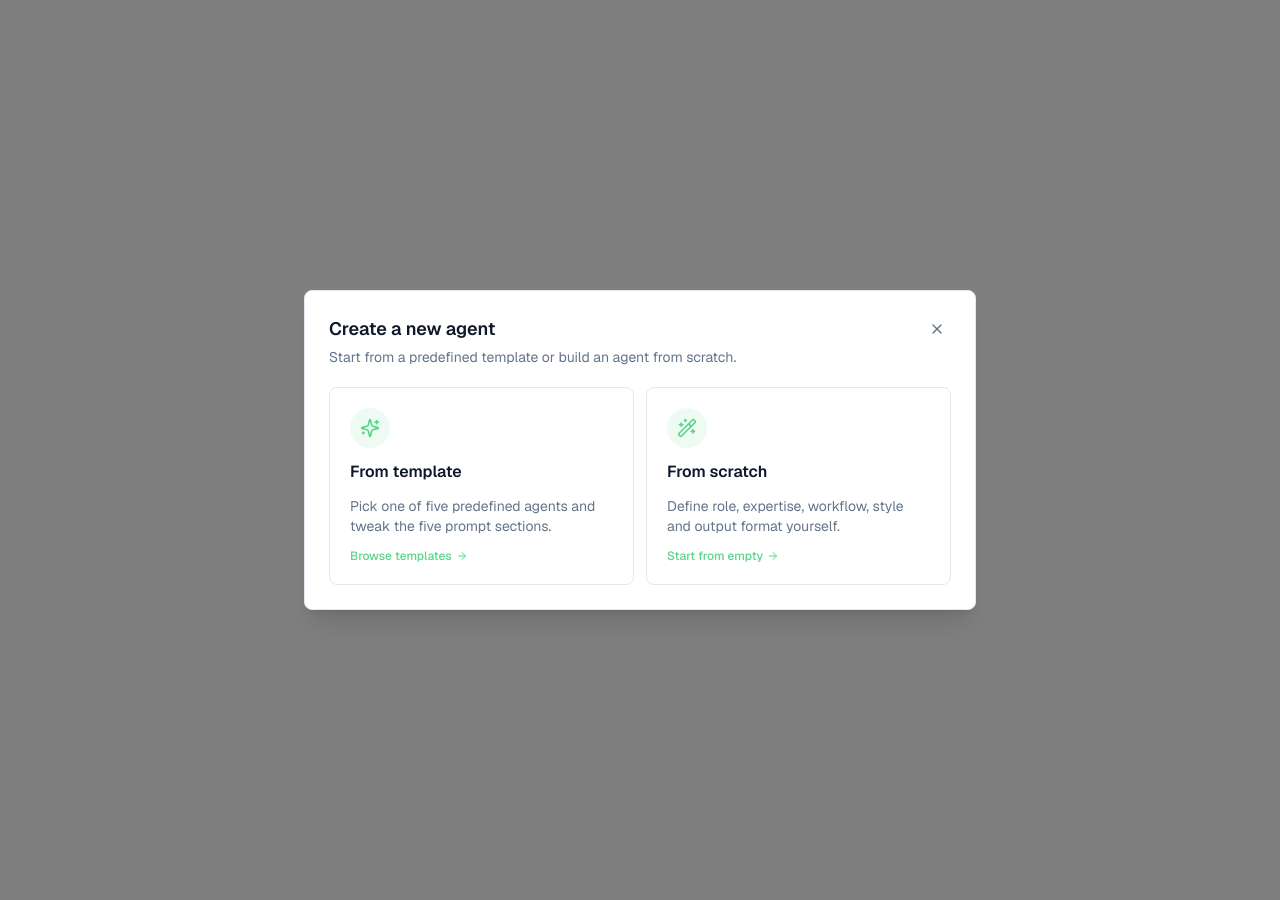
Test: CreateAgentChoosePathDialog › should navigate to /agents/new/scratch when the scratch option is clicked
Click the button with aria-label "create agent from scratch": (687, 428) x1=646 y1=387 x2=951 y2=585
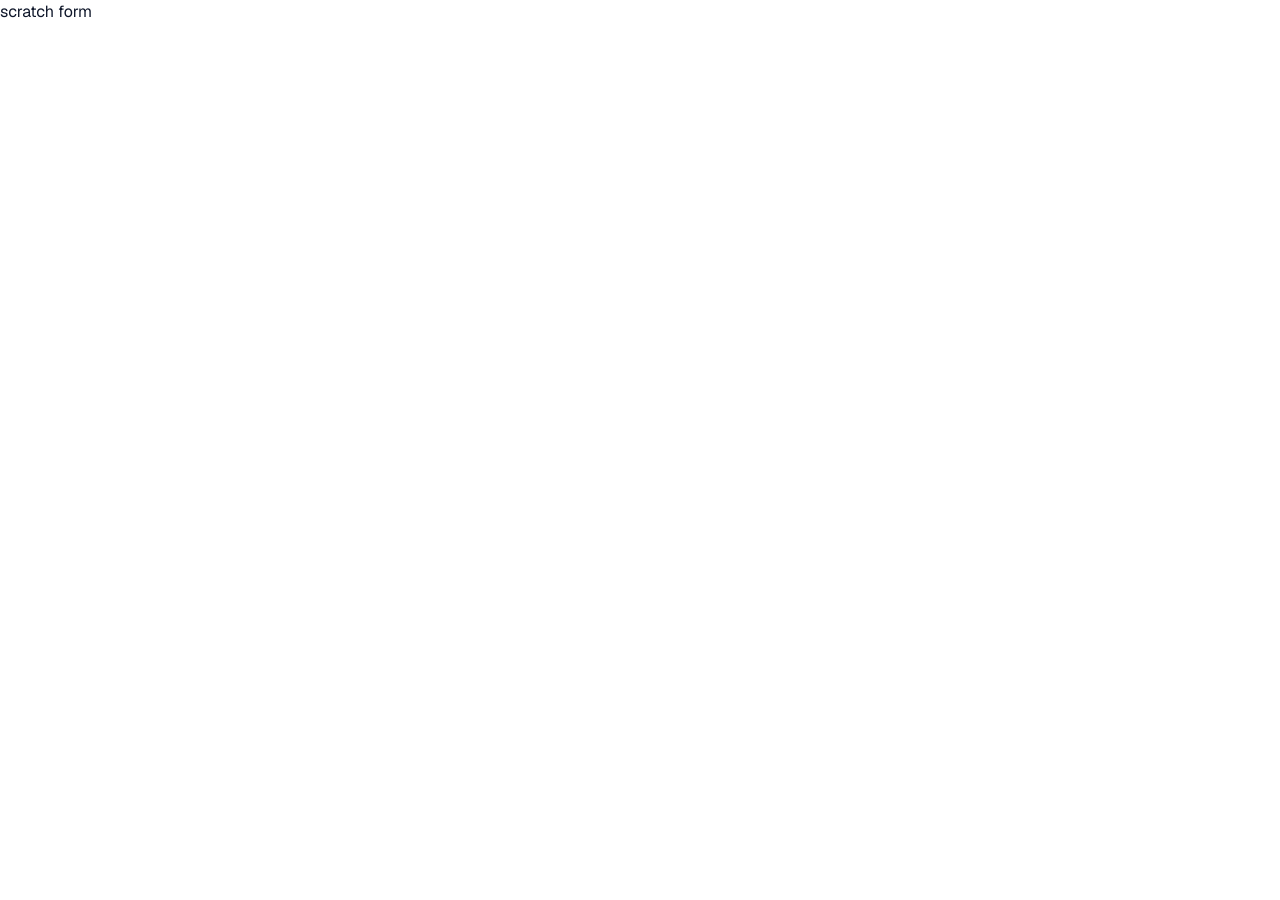
Result: the text "scratch form" is shown at x1=0 y1=1 x2=92 y2=22
